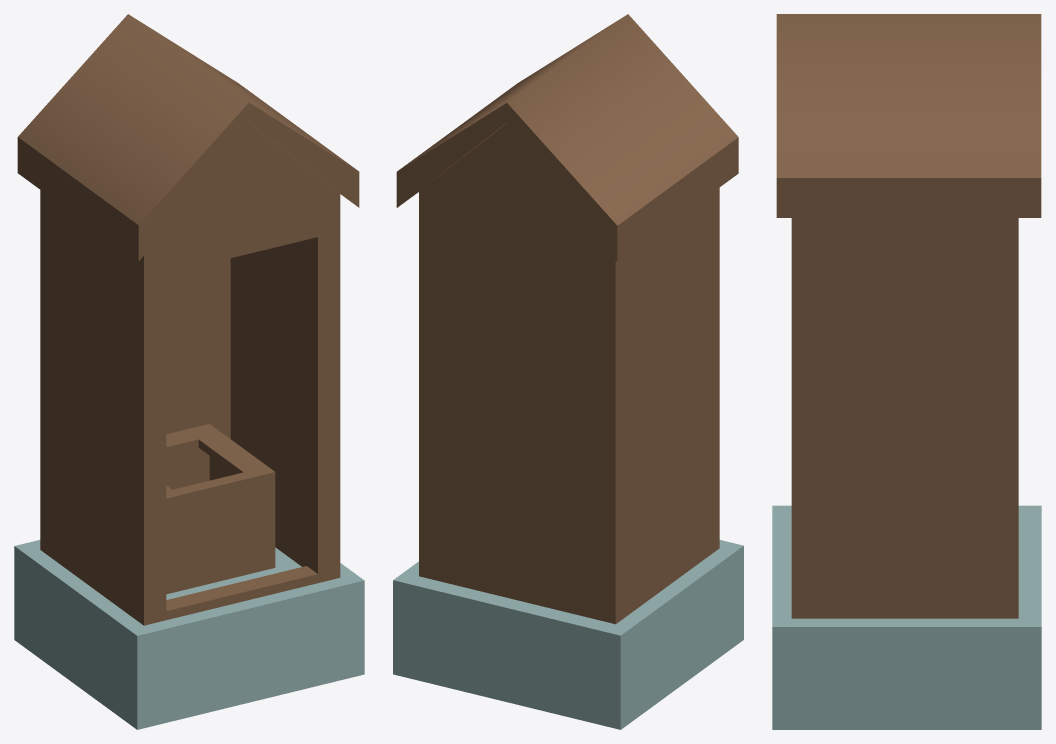
File: BackyardLooBuilding.fbx
3 views of the same model, side by side, from view 1: azimuth 30°, elevation 25°; view 2: azimuth 150°, elevation 25°; view 3: azimuth 270°, elevation 25° (orthographic). The views are drawn at different scales.
Parts seen in each view (by area): view 1: polySurface133; view 2: polySurface133; view 3: polySurface133.
Boxes of the visible parts, left/top/right/bottom form: polySurface133: left=14, top=14, right=364, bottom=729; polySurface133: left=393, top=14, right=743, bottom=729; polySurface133: left=772, top=14, right=1041, bottom=729.
Bounding box in the file's own units: 0.9714 × 2.44 × 0.9093.
